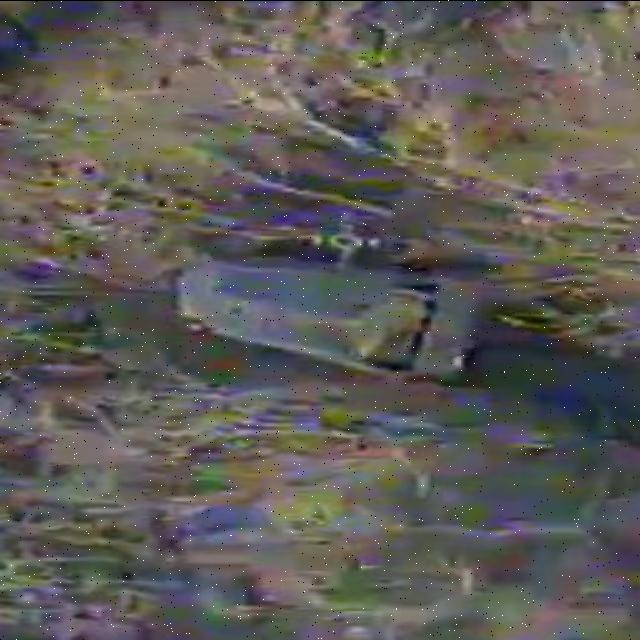TRUCK: (166, 248, 494, 376)
